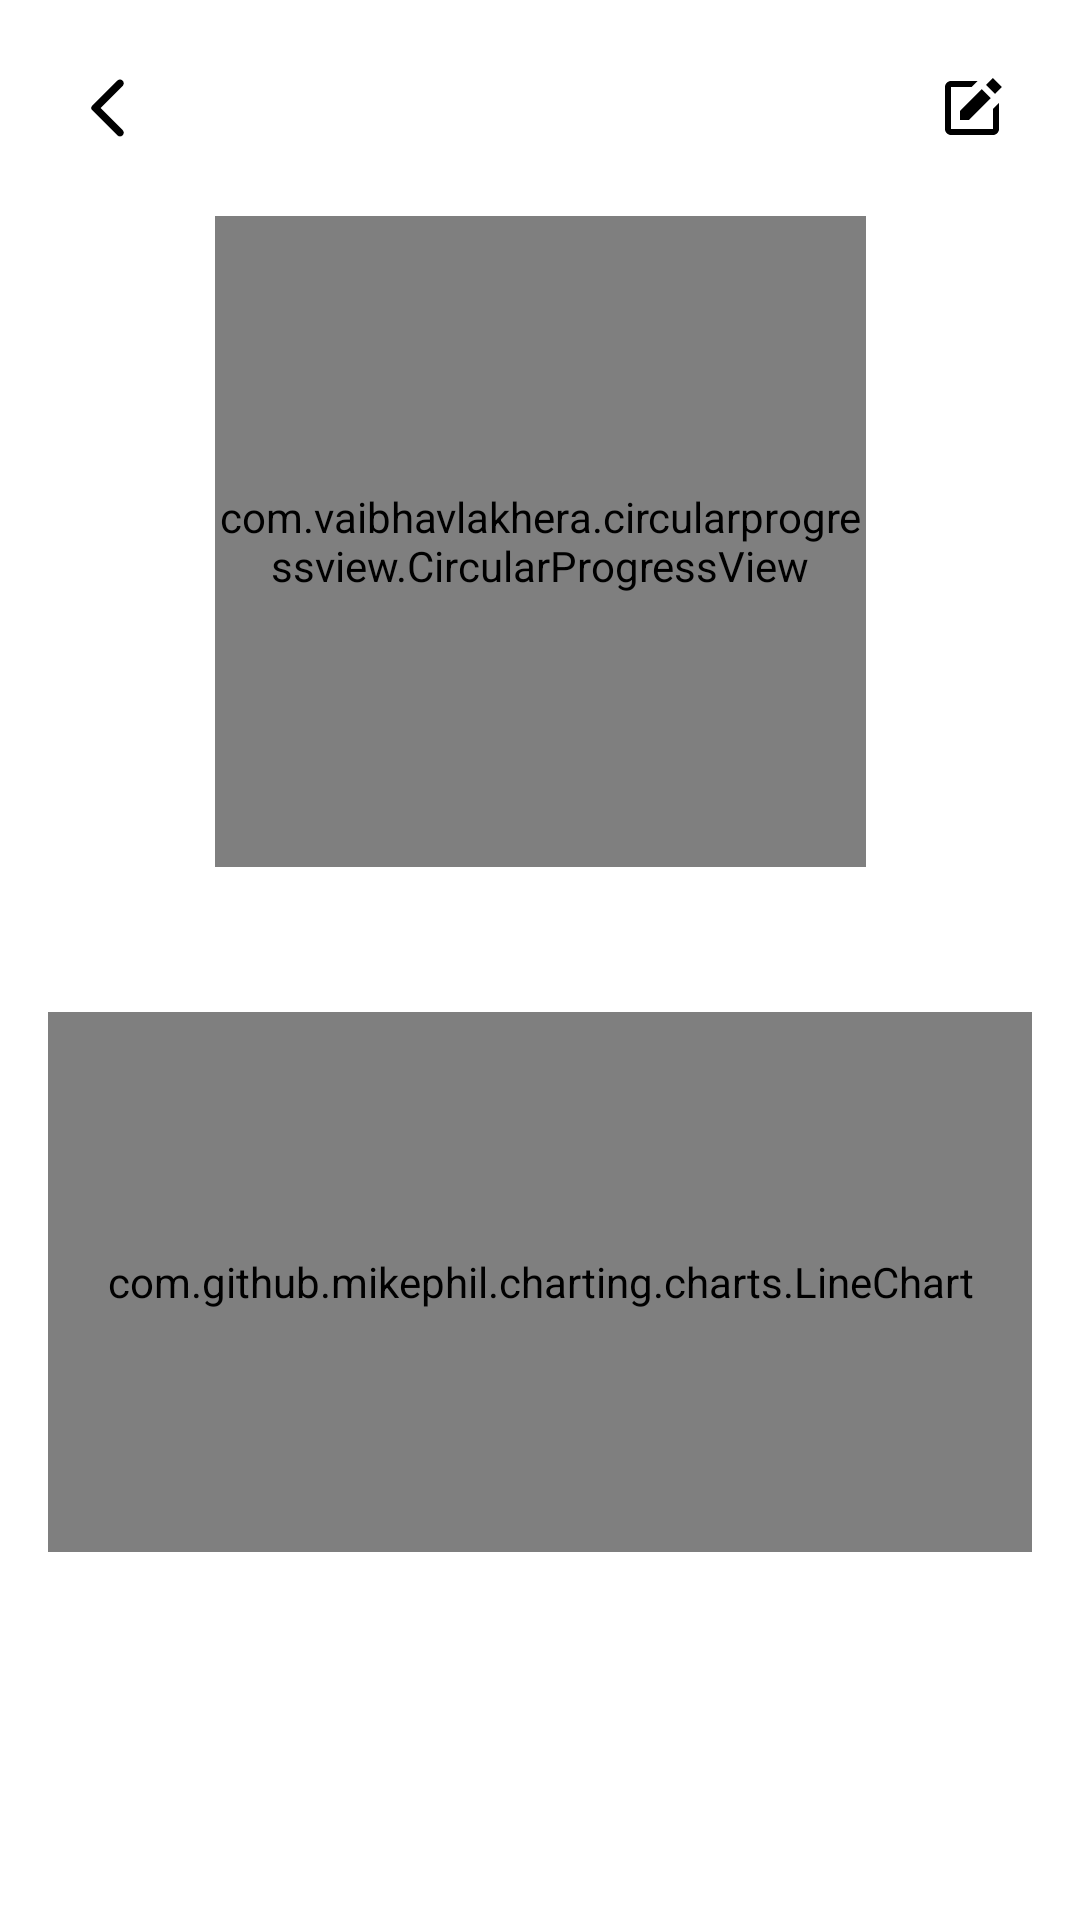

Point at icon controls on the screen. Image size 1080×1920, points as point (x, y).
arrow back: point (107, 108)
edit: point (973, 106)
